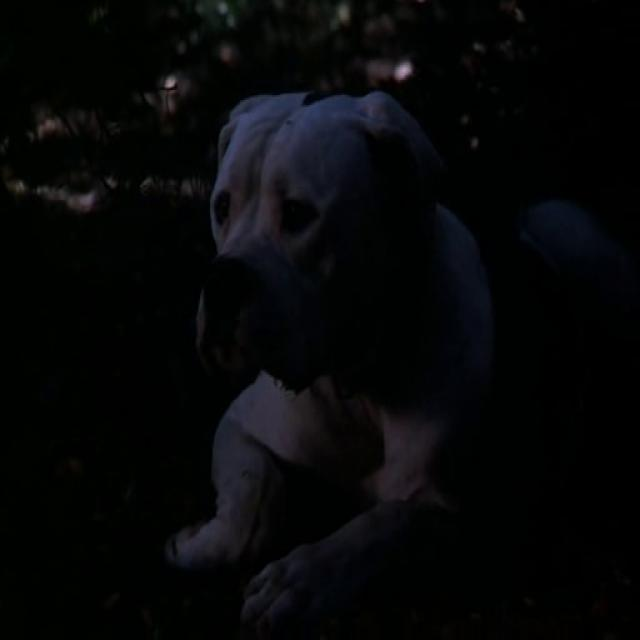Dog: (119, 60, 586, 584)
